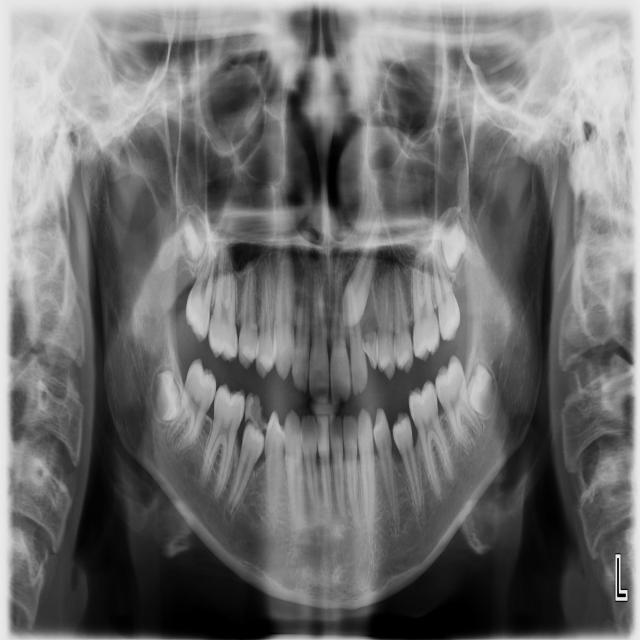mandibula: (82, 143, 558, 606)
